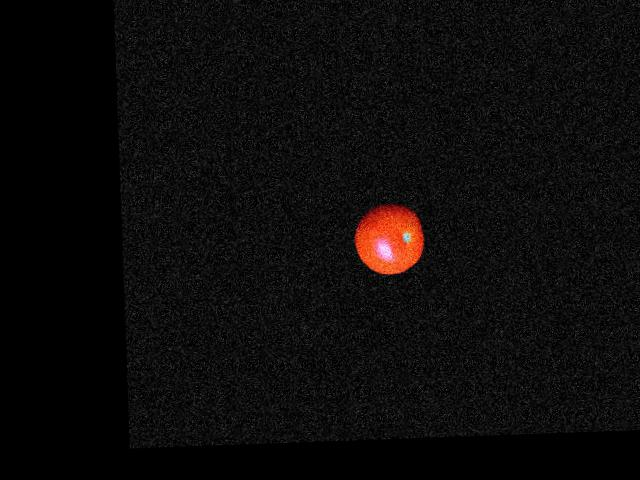tomato: (353, 201, 424, 275)
